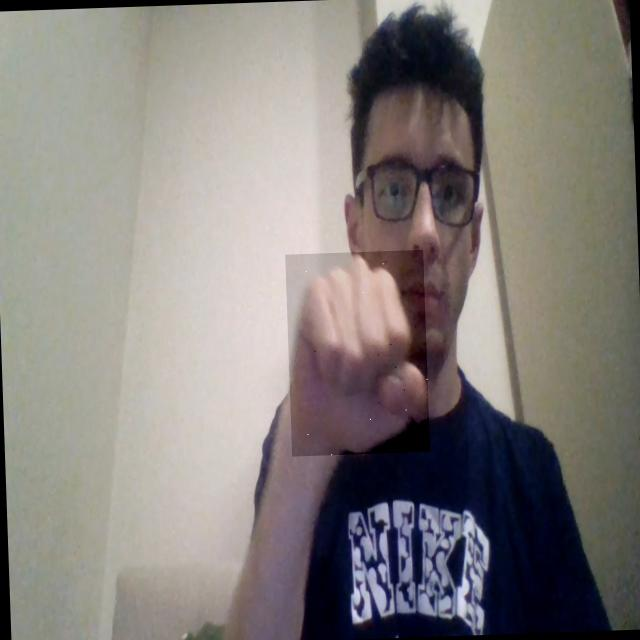yes: (284, 249, 430, 456)
